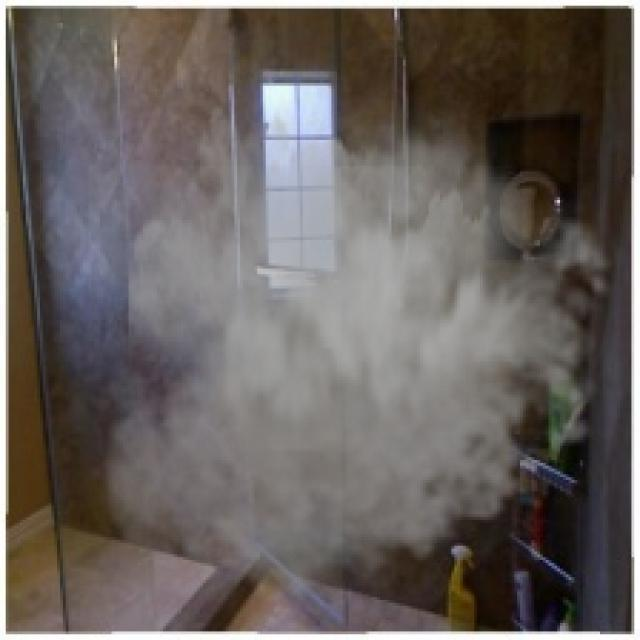Smoke: (89, 68, 628, 623)
